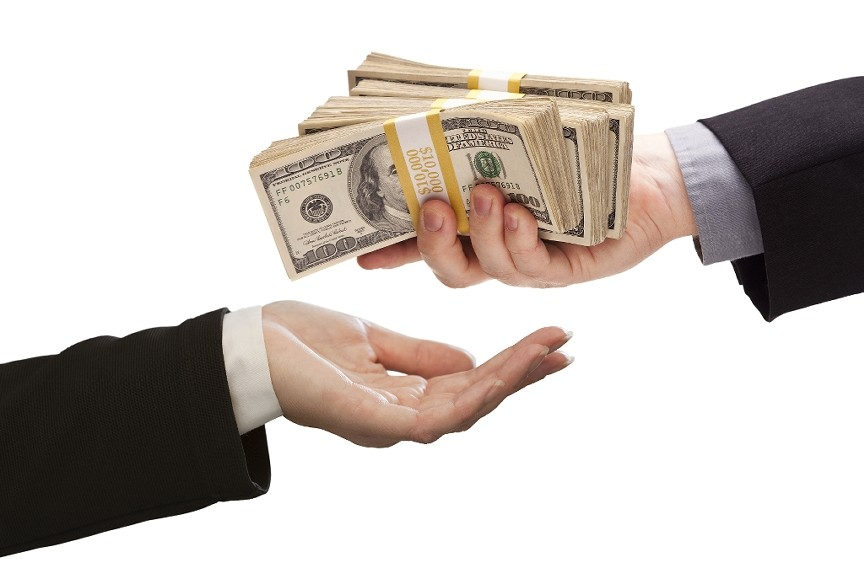billete: (247, 49, 636, 286)
